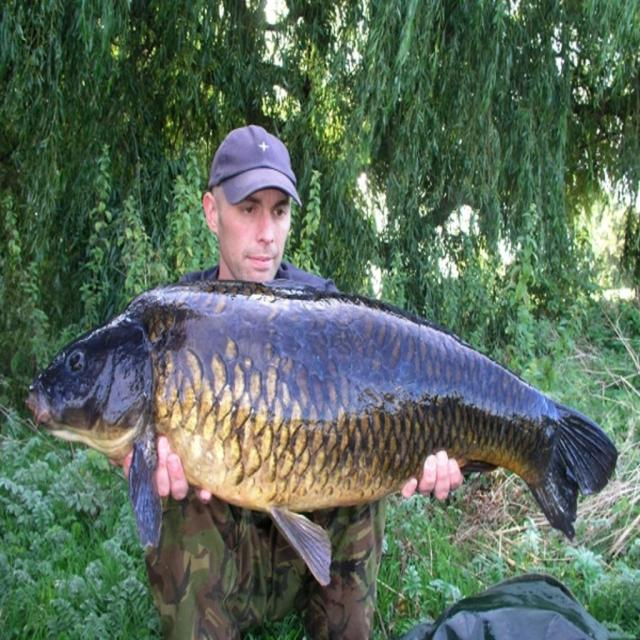Face: (214, 165, 293, 301)
